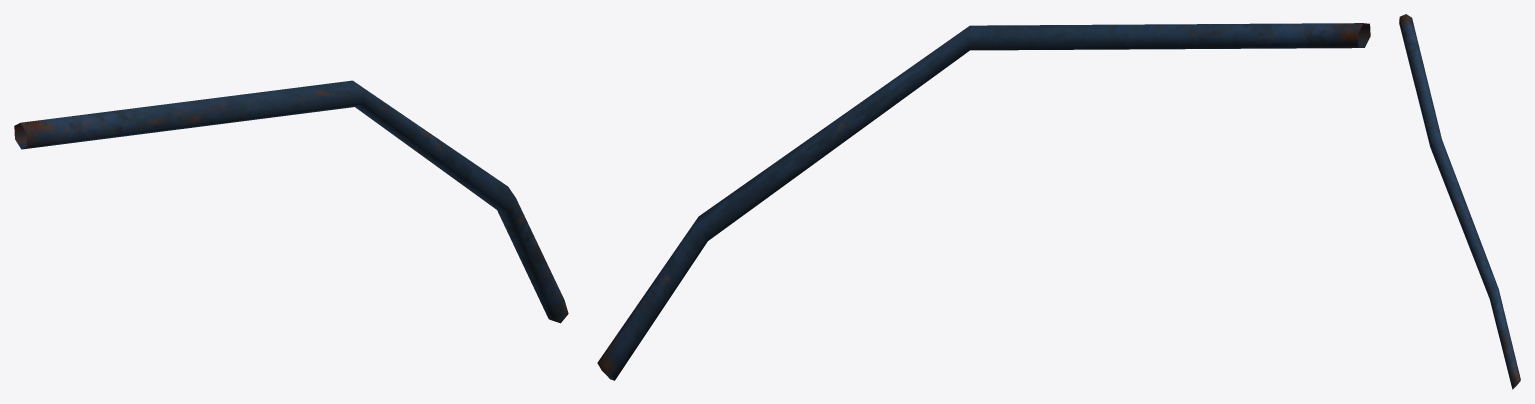
Rendered from Stage-gongchang-bianlan10.FBX.
3 renders of one model, left to right at view 1: azimuth 30°, elevation 25°; view 2: azimuth 150°, elevation 25°; view 3: azimuth 270°, elevation 25°, orthographic. The views are drawn at different scales.
Parts seen in each view (by area): view 1: Object02; view 2: Object02; view 3: Object02.
Boxes of the visible parts, x1,y1,x2,y2 form: Object02: (14, 80, 568, 323); Object02: (597, 23, 1370, 380); Object02: (1399, 14, 1520, 389).
Size of the model in its own units: 4.8 by 1.55 by 3.05.
